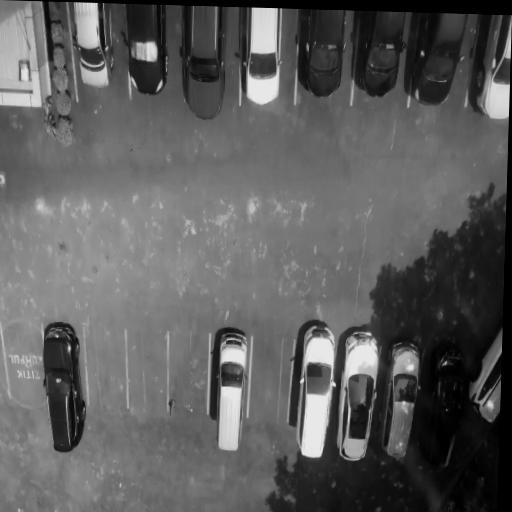Car: (290, 310, 336, 470), (40, 318, 90, 461), (336, 320, 382, 470), (405, 12, 469, 118), (176, 5, 228, 124), (380, 333, 424, 473), (208, 316, 250, 461), (460, 14, 512, 129), (348, 11, 409, 109), (237, 7, 288, 115), (293, 9, 350, 103), (423, 343, 464, 473), (459, 317, 502, 437), (125, 4, 166, 105), (69, 7, 110, 103)
Space Available: (248, 325, 293, 443), (0, 312, 44, 431), (167, 332, 211, 446), (124, 326, 168, 438), (84, 328, 126, 435)
